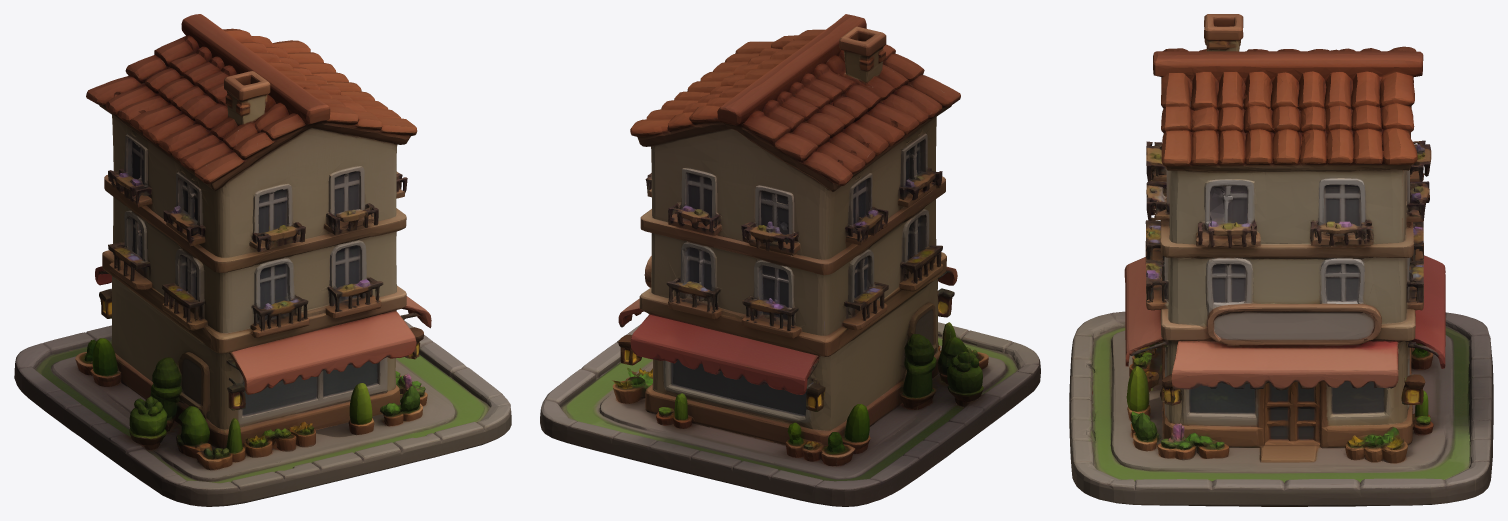
The model's file is relleno_pisos_crema.glb.
The picture shows the model from 3 angles, left to right: view 1: azimuth 30°, elevation 25°; view 2: azimuth 150°, elevation 25°; view 3: azimuth 270°, elevation 25°; orthographic projection. The views are drawn at different scales.
Parts seen in each view (by area): view 1: world; view 2: world; view 3: world.
Part boxes in pixels (x1=…): world: x1=14, y1=14, x2=511, y2=506; world: x1=540, y1=14, x2=1040, y2=506; world: x1=1069, y1=14, x2=1493, y2=506.
Size of the model in its own units: 0.9862 by 0.9748 by 0.9874.
Materials: 1 (1 with a texture image).
